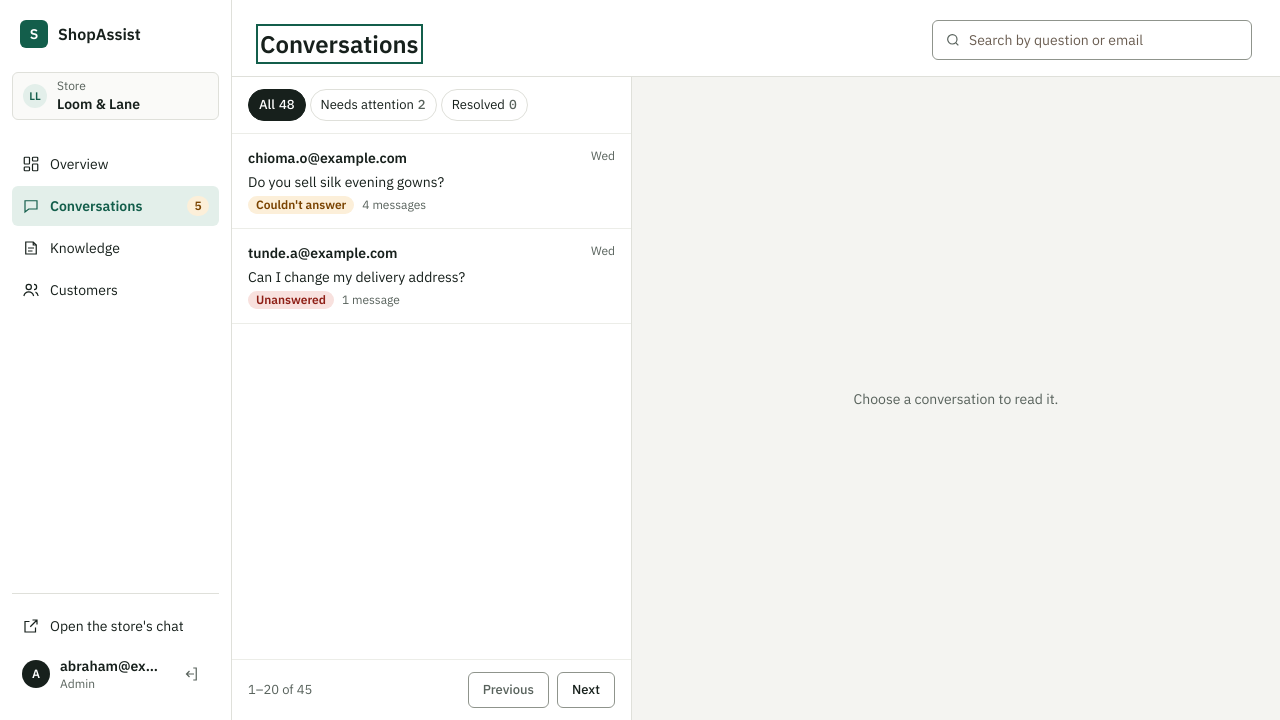
Scenario: paging › long lists come a page at a time, kept in the address
This screenshot has width=1280, height=720.
Expected: the navigation bar named "Pages" shows "1–20 of 45", [232, 659, 631, 719]
Click the button "Next". click: (586, 690)
box: [557, 672, 615, 708]
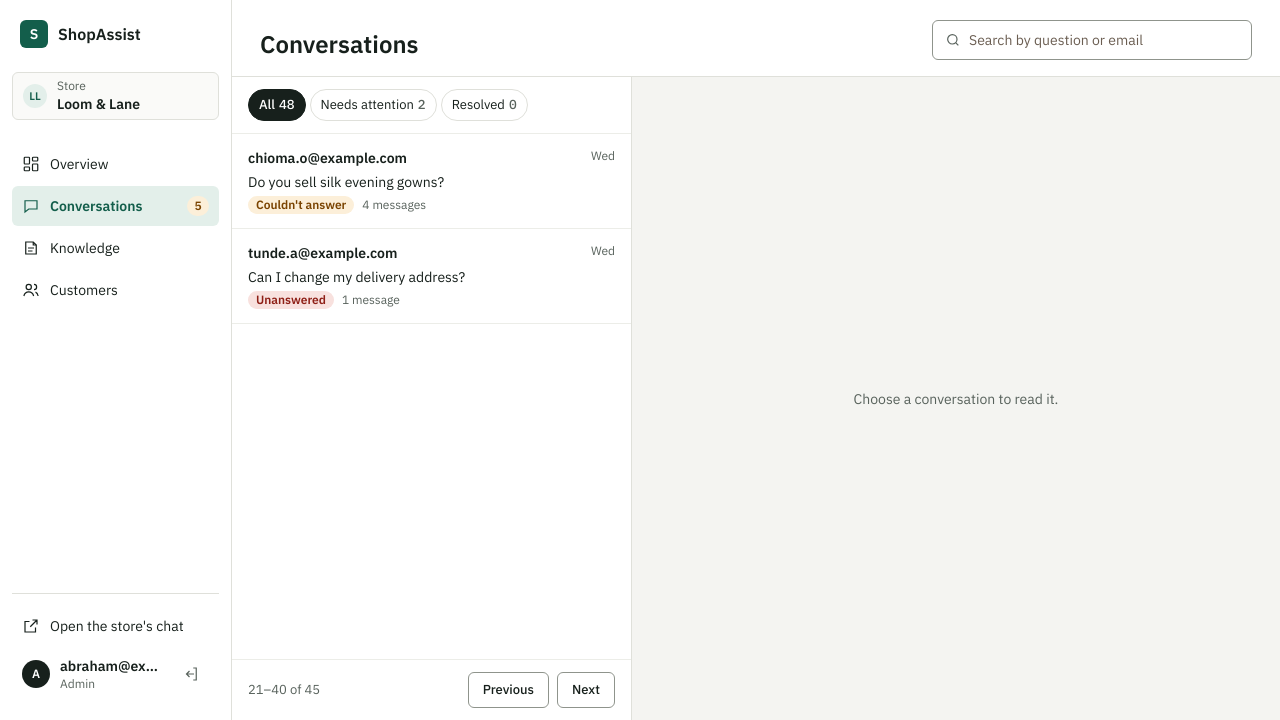
Expected: the navigation bar named "Pages" shows "21–40 of 45", [232, 659, 631, 719]
